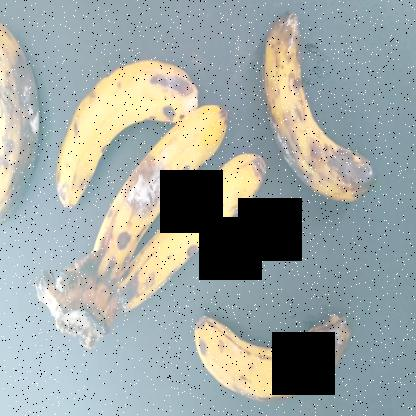overripe: (44, 49, 196, 205), (110, 91, 234, 266), (122, 148, 262, 300)
rotten: (256, 0, 386, 204), (185, 297, 370, 415), (0, 0, 50, 247), (120, 124, 181, 227)
